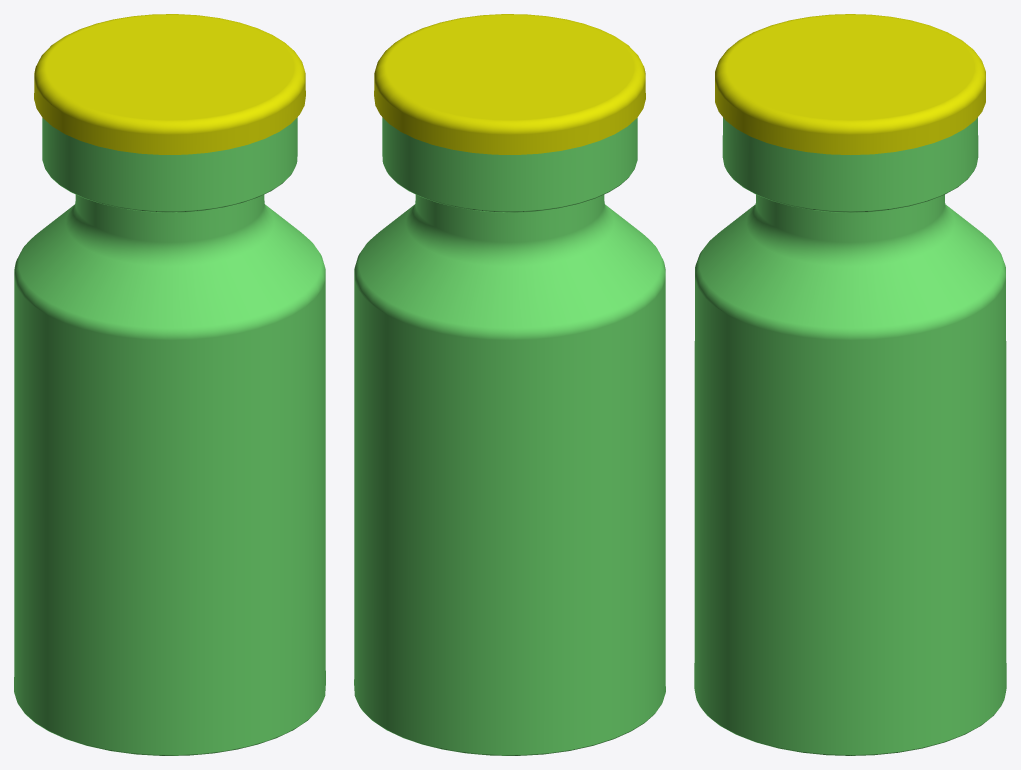
The model's file is o_propofol.obj.
The picture shows the model from 3 angles, left to right: view 1: azimuth 30°, elevation 25°; view 2: azimuth 150°, elevation 25°; view 3: azimuth 270°, elevation 25°; orthographic projection.
Parts seen in each view (by area): view 1: vaccine-1-solid1, vaccine-1-solid3, vaccine-1-solid4; view 2: vaccine-1-solid1, vaccine-1-solid3, vaccine-1-solid4; view 3: vaccine-1-solid1, vaccine-1-solid3, vaccine-1-solid4.
Boxes of the visible parts, bbox=[...] form: vaccine-1-solid1: bbox=[14, 194, 325, 755]; vaccine-1-solid3: bbox=[34, 14, 305, 154]; vaccine-1-solid4: bbox=[42, 117, 297, 212]; vaccine-1-solid1: bbox=[354, 194, 665, 755]; vaccine-1-solid3: bbox=[374, 14, 645, 154]; vaccine-1-solid4: bbox=[382, 117, 637, 212]; vaccine-1-solid1: bbox=[694, 194, 1006, 755]; vaccine-1-solid3: bbox=[715, 14, 985, 154]; vaccine-1-solid4: bbox=[722, 117, 978, 212].
Size of the model in its own units: 0.0244 by 0.0538 by 0.0244.
